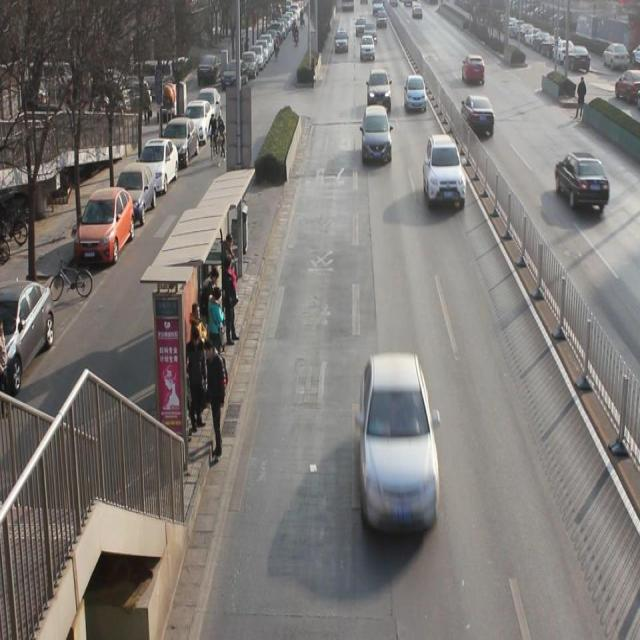car: (358, 356, 442, 540), (555, 151, 609, 218), (424, 137, 466, 214), (362, 110, 392, 164), (459, 97, 497, 139), (404, 76, 429, 117), (367, 73, 392, 108), (460, 57, 485, 86), (334, 31, 350, 59), (359, 36, 375, 61)
